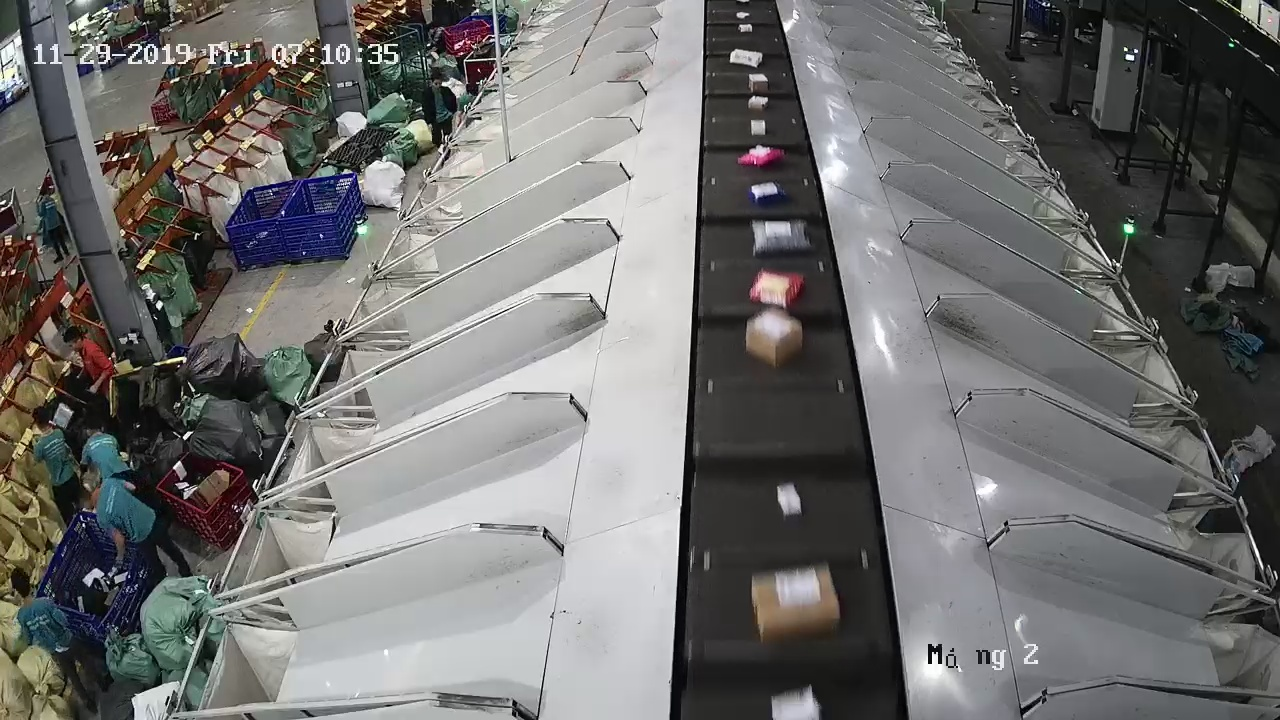parcel: (751, 561, 841, 645), (745, 307, 804, 369), (751, 218, 816, 257), (748, 267, 807, 309), (737, 144, 785, 169), (748, 179, 787, 205), (778, 483, 802, 518), (750, 119, 766, 136)
